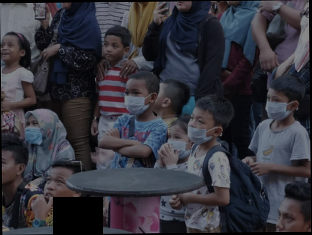mask_weared_incorrect: (186, 111, 216, 145)
with_mask: (264, 91, 292, 121), (123, 86, 150, 116), (166, 131, 192, 160), (23, 118, 44, 145)
without_mask: (41, 173, 76, 206), (275, 205, 309, 232), (1, 41, 22, 64), (103, 38, 124, 61)
